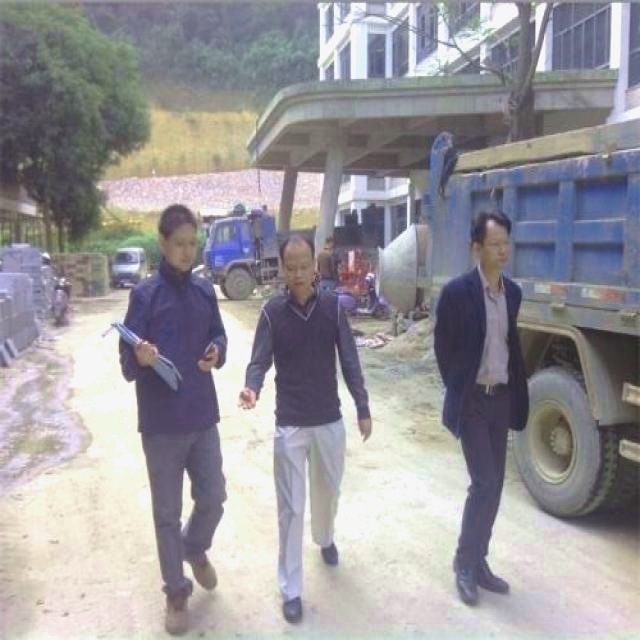Sin_Casco_Mascarrilla: (157, 205, 198, 275), (468, 209, 513, 271), (276, 233, 316, 297)
